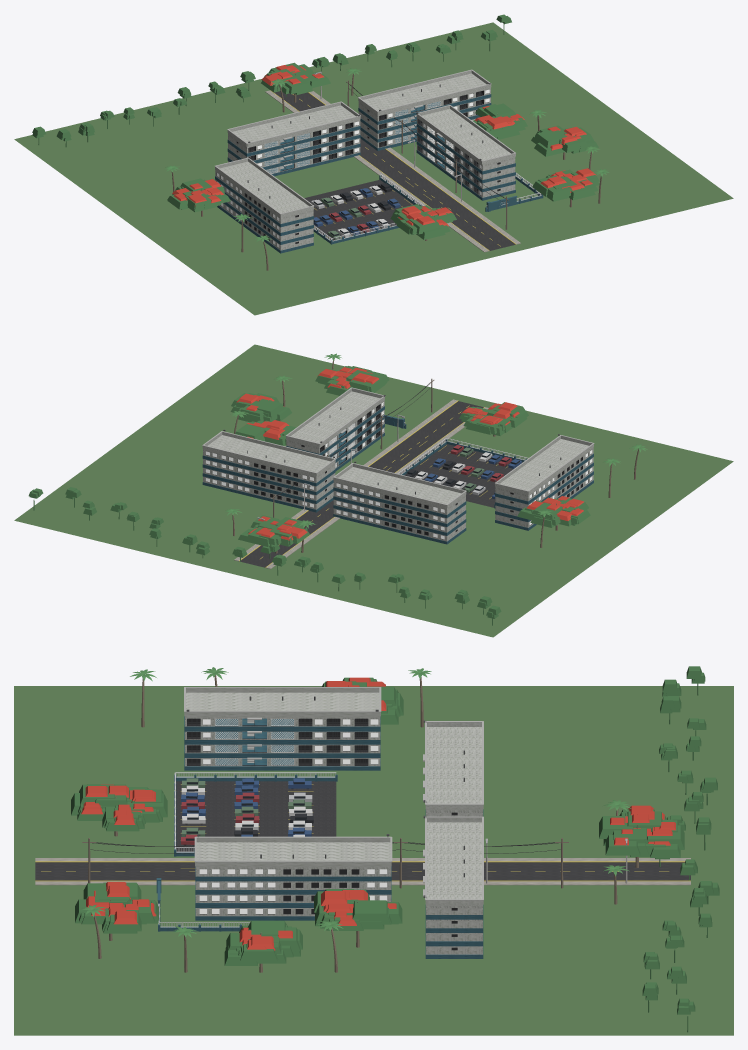
File: flamboyan.glb
3 renders of one model, top to bottom at view 1: azimuth 30°, elevation 25°; view 2: azimuth 150°, elevation 25°; view 3: azimuth 270°, elevation 25°, orthographic. The views are drawn at different scales.
Parts seen in each view (by area): view 1: Cesped, Follaje, Asfalto, Flor_Flamboyan, Cubierta.002, Cubierta.003, Cubierta.004, Cubierta.001, Bandas.002, Muros.004, Muros.001, Muros.002 (+12 smaller); view 2: Cesped, Follaje, Asfalto, Flor_Flamboyan, Muros.002, Muros.003, Cubierta.003, Cubierta.002, Cubierta.004, Cubierta.001, Bandas.002, Bandas.003 (+11 smaller); view 3: Cesped, Follaje, Asfalto, Flor_Flamboyan, Bandas.004, Cubierta.001, Cubierta.004, Cubierta.002, Cubierta.003, Muros.001, Muros.004, Aceras (+13 smaller).
Boxes of the visible parts, bbox=[...] form: Cesped: bbox=[14, 22, 733, 315]; Follaje: bbox=[32, 14, 599, 239]; Asfalto: bbox=[274, 91, 515, 250]; Flor_Flamboyan: bbox=[172, 65, 596, 226]; Cubierta.002: bbox=[227, 102, 360, 147]; Cubierta.003: bbox=[358, 70, 491, 115]; Cubierta.004: bbox=[215, 159, 313, 217]; Cubierta.001: bbox=[416, 106, 515, 165]; Bandas.002: bbox=[227, 126, 360, 176]; Muros.004: bbox=[215, 170, 313, 250]; Muros.001: bbox=[417, 117, 515, 197]; Muros.002: bbox=[228, 120, 360, 173]; Cesped: bbox=[14, 344, 733, 637]; Follaje: bbox=[28, 366, 590, 625]; Asfalto: bbox=[239, 401, 522, 567]; Flor_Flamboyan: bbox=[236, 367, 583, 540]; Muros.002: bbox=[333, 481, 465, 541]; Muros.003: bbox=[203, 449, 335, 509]; Cubierta.003: bbox=[202, 432, 335, 476]; Cubierta.002: bbox=[333, 464, 466, 508]; Cubierta.004: bbox=[495, 436, 593, 495]; Cubierta.001: bbox=[286, 388, 384, 447]; Bandas.002: bbox=[333, 487, 466, 544]; Bandas.003: bbox=[202, 455, 335, 512]; Cesped: bbox=[14, 686, 733, 1035]; Follaje: bbox=[71, 666, 719, 1032]; Asfalto: bbox=[35, 781, 690, 880]; Flor_Flamboyan: bbox=[81, 677, 675, 950]; Bandas.004: bbox=[184, 716, 380, 770]; Cubierta.001: bbox=[195, 838, 391, 867]; Cubierta.004: bbox=[184, 688, 380, 717]; Cubierta.002: bbox=[425, 722, 483, 810]; Cubierta.003: bbox=[425, 818, 483, 905]; Muros.001: bbox=[195, 867, 391, 916]; Muros.004: bbox=[185, 717, 380, 766]; Aceras: bbox=[35, 858, 690, 885].
Size of the model in its own units: 154 by 12.71 by 134.
Materials: 32 (5 with a texture image).
